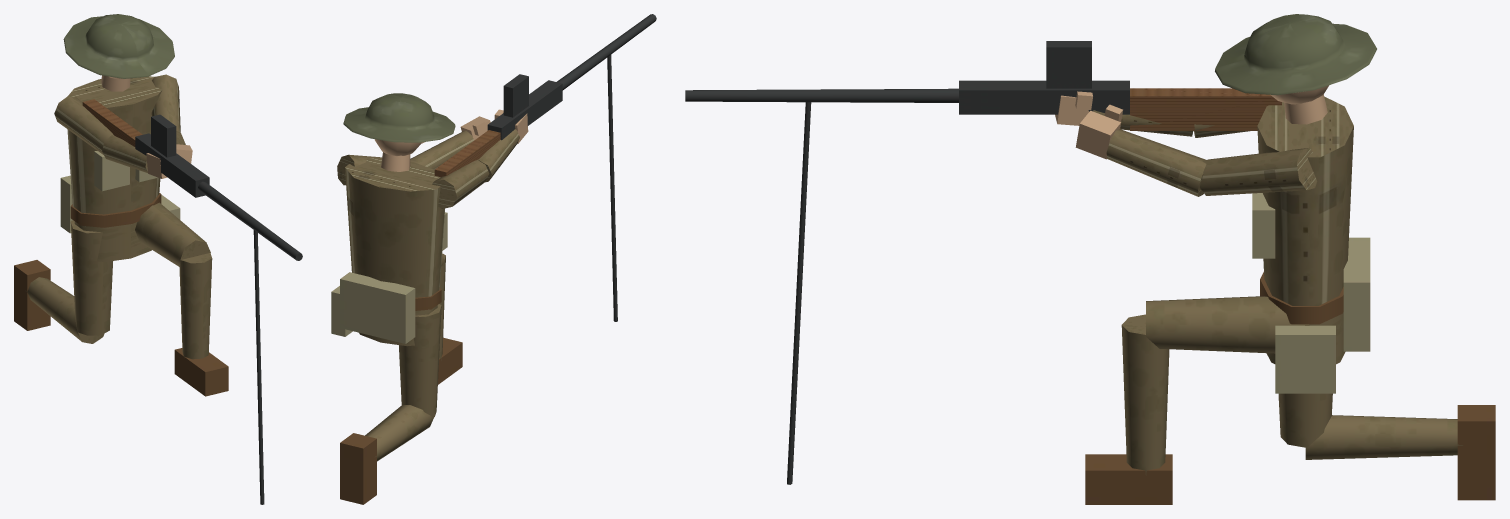
File: infantry-2.glb
3 renders of one model, left to right at view 1: azimuth 30°, elevation 25°; view 2: azimuth 150°, elevation 25°; view 3: azimuth 270°, elevation 25°, orthographic. The views are drawn at different scales.
Parts seen in each view (by area): view 1: body, rifle, head, shin_left, leg_right, shin_right, leg_left, arm_right, forearm_right, arm_left; view 2: body, rifle, head, shin_right, leg_right, arm_right, forearm_left, shin_left, forearm_right, arm_left; view 3: body, rifle, head, shin_left, shin_right, leg_left, forearm_left, arm_left, leg_right, forearm_right.
Part boxes in pixels (x1,y1,x2,y2): body: (60, 76, 180, 261); rifle: (82, 99, 302, 504); head: (63, 14, 174, 91); shin_left: (174, 253, 228, 396); leg_right: (70, 220, 112, 335); shin_right: (14, 260, 104, 343); leg_left: (135, 202, 210, 266); arm_right: (54, 96, 113, 154); forearm_right: (102, 135, 167, 178); arm_left: (151, 74, 180, 132); body: (331, 157, 447, 346); rifle: (434, 14, 656, 321); head: (343, 93, 455, 171); shin_right: (340, 405, 433, 504); leg_right: (399, 304, 441, 417); arm_right: (432, 159, 489, 208); forearm_left: (410, 116, 490, 169); shin_left: (438, 253, 462, 384); forearm_right: (478, 109, 528, 182); arm_left: (337, 154, 418, 185); body: (1252, 96, 1370, 393); rifle: (685, 41, 1281, 484); head: (1215, 14, 1376, 124); shin_left: (1085, 314, 1172, 504); shin_right: (1305, 405, 1495, 500); leg_left: (1146, 296, 1309, 353); forearm_left: (1075, 104, 1206, 196); arm_left: (1199, 148, 1317, 195); leg_right: (1278, 393, 1332, 447); forearm_right: (1055, 91, 1193, 136).
Size of the model in its own units: 0.5248 by 1.41 by 2.13.
7 materials, 7 textured.
